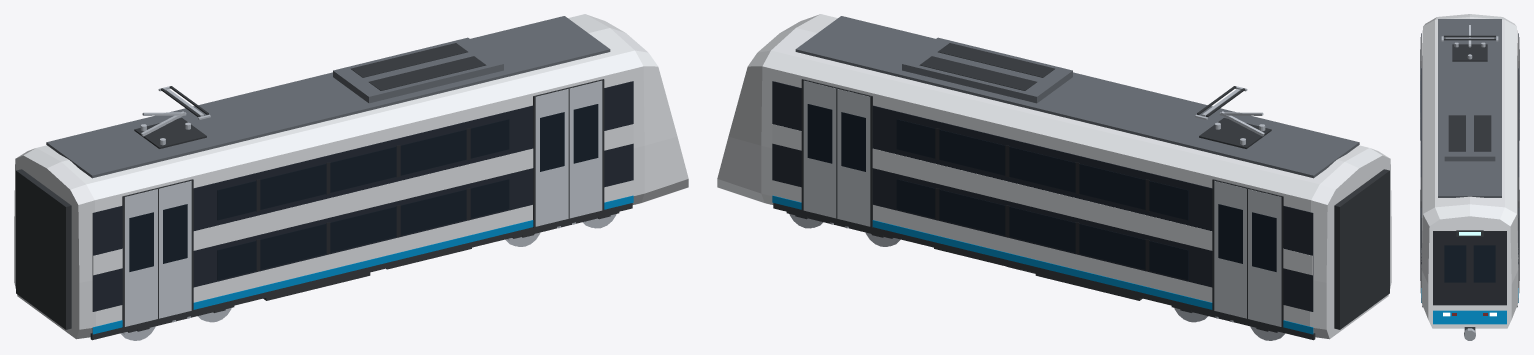
The model's file is rer_d_z20500__cab.glb.
3 renders of one model, left to right at view 1: azimuth 30°, elevation 25°; view 2: azimuth 150°, elevation 25°; view 3: azimuth 270°, elevation 25°, orthographic. The views are drawn at different scales.
Visible parts, largest first — view 1: rer_d_z20500_cab; view 2: rer_d_z20500_cab; view 3: rer_d_z20500_cab.
Boxes of the visible parts, x1,y1,x2,y2 form: rer_d_z20500_cab: (14, 14, 688, 340); rer_d_z20500_cab: (717, 14, 1391, 340); rer_d_z20500_cab: (1420, 14, 1519, 340).
Bounding box in the file's own units: 15.37 × 4.88 × 2.97.
